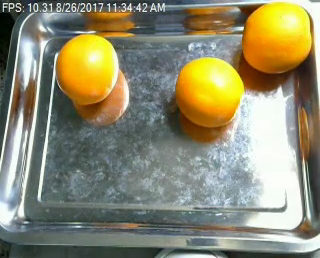Orange: (242, 3, 312, 74), (174, 56, 243, 126), (55, 34, 119, 104)
